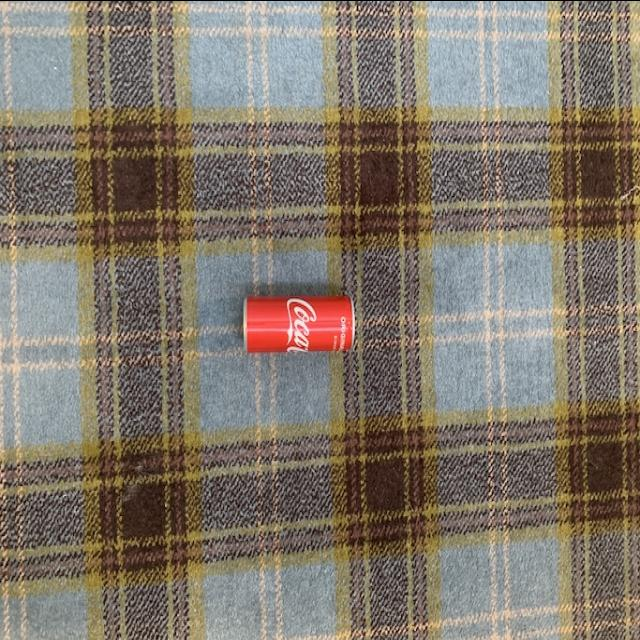Aluminum Can: (246, 284, 356, 352)
